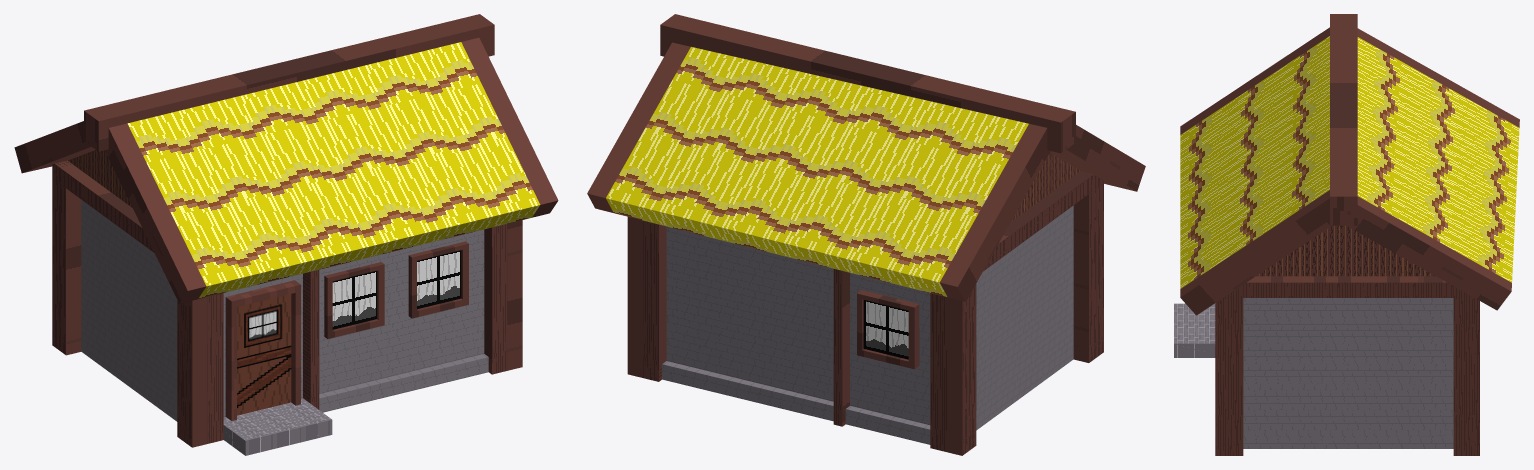
The model's file is VilliageHouse.fbx.
3 views of the same model, side by side, from view 1: azimuth 30°, elevation 25°; view 2: azimuth 150°, elevation 25°; view 3: azimuth 270°, elevation 25° (orthographic). The views are drawn at different scales.
Parts seen in each view (by area): view 1: VilliageHouseRoofF, VilliageHouse, VilliageRoofBeam, ViliageHouseDoor, VilliageHouseWindow, VilliageHouseWindow1, VilliageHouseRoofB, ViliageHouseConnectorL; view 2: VilliageHouseRoofB, VilliageHouse, VilliageRoofBeam, VilliageHouseWindow2, VilliageHouseRoofF, ViliageHouseConnectorL; view 3: VilliageHouse, VilliageHouseRoofB, VilliageHouseRoofF, VilliageRoofBeam, ViliageHouseConnectorR.
Part boxes in pixels (<box>): VilliageHouseRoofF: <box>105,37,558,303</box>; VilliageHouse: <box>52,160,522,455</box>; VilliageRoofBeam: <box>84,14,494,151</box>; ViliageHouseDoor: <box>225,280,300,420</box>; VilliageHouseWindow: <box>324,262,384,338</box>; VilliageHouseWindow1: <box>408,241,468,318</box>; VilliageHouseRoofB: <box>14,121,95,173</box>; ViliageHouseConnectorL: <box>68,150,132,207</box>; VilliageHouseRoofB: <box>587,42,1050,301</box>; VilliageHouse: <box>627,171,1103,455</box>; VilliageRoofBeam: <box>660,14,1075,153</box>; VilliageHouseWindow2: <box>857,290,919,369</box>; VilliageHouseRoofF: <box>1050,125,1145,191</box>; ViliageHouseConnectorL: <box>1011,153,1079,221</box>; VilliageHouse: <box>1174,276,1479,455</box>; VilliageHouseRoofB: <box>1346,28,1519,310</box>; VilliageHouseRoofF: <box>1180,27,1331,315</box>; VilliageRoofBeam: <box>1330,14,1357,225</box>; ViliageHouseConnectorR: <box>1256,225,1435,276</box>.
Size of the model in its own units: 8090 by 5663 by 6472.
Materials: 9 (8 with a texture image).
